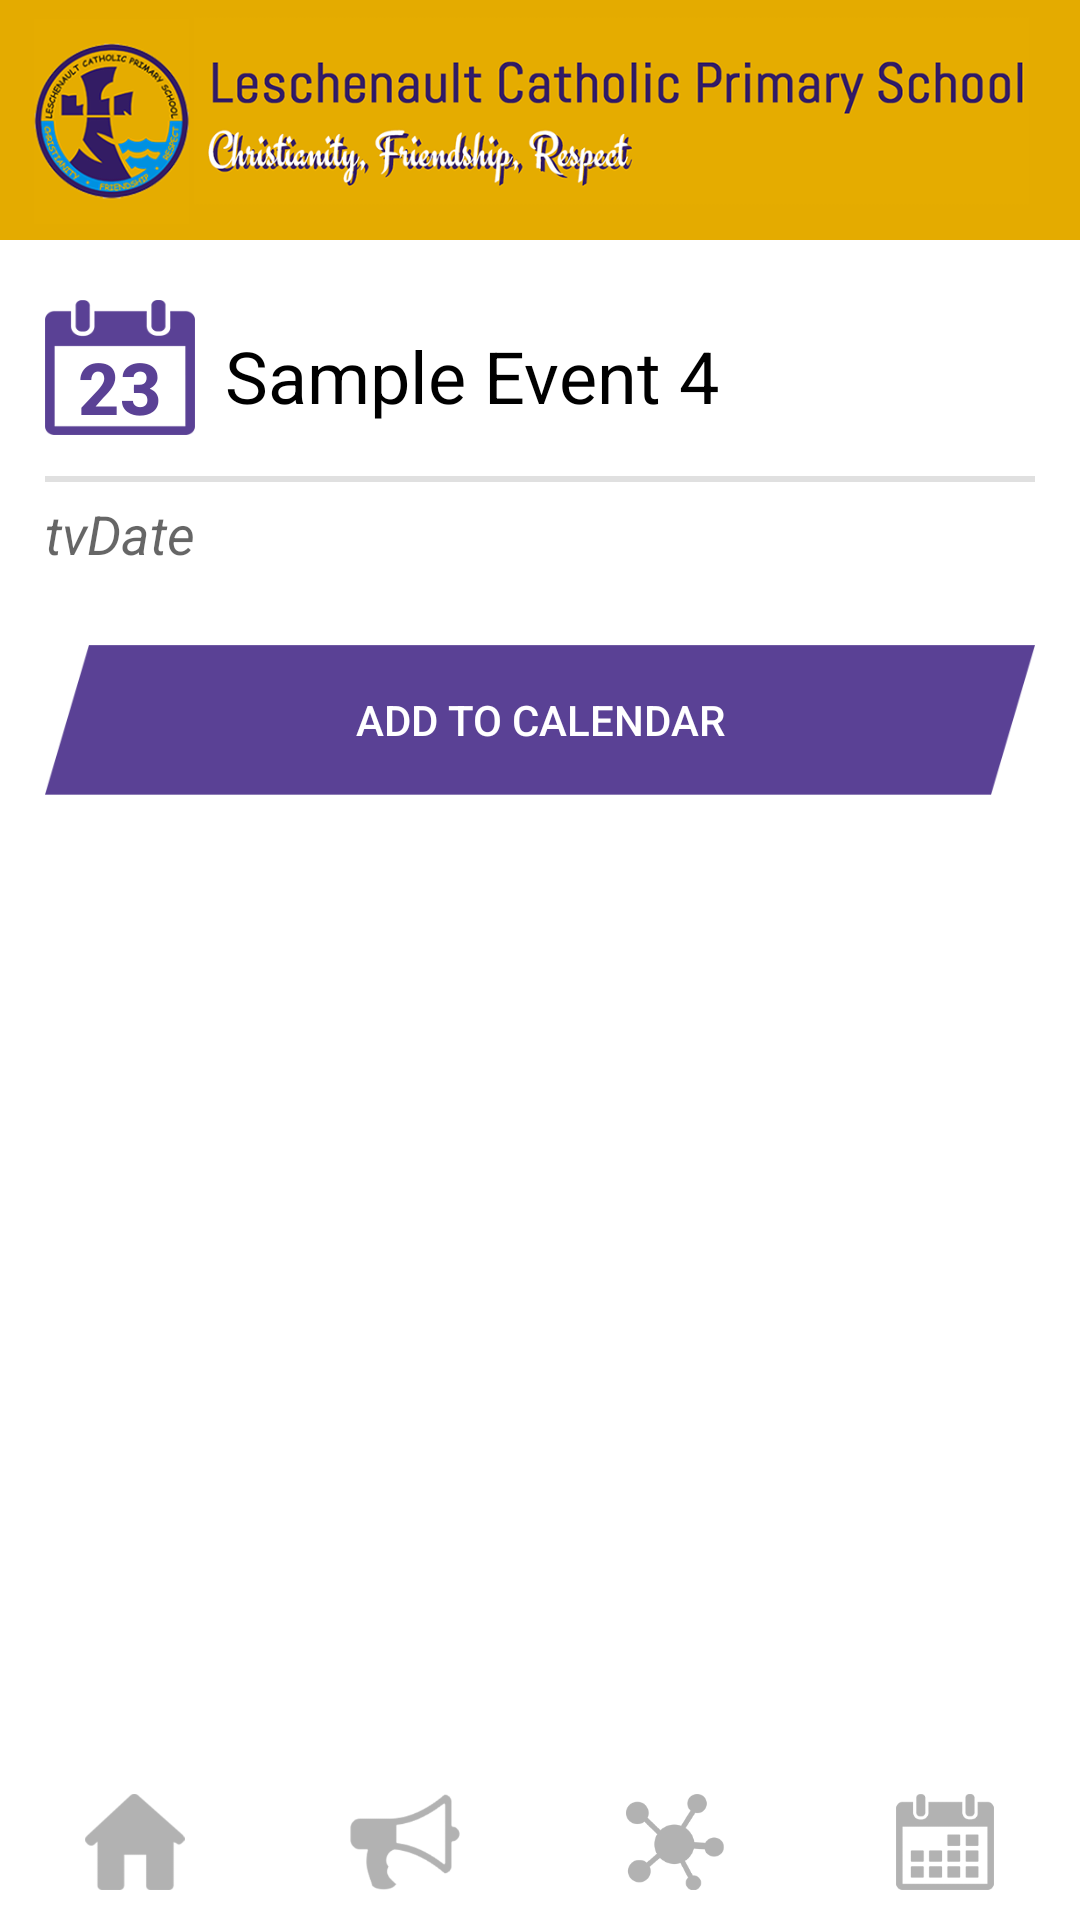

Screen size 1080 x 1920. Icon name, then its box in pixels as {"left": x1, "top": y1, "right": x2, "bottom": y2}:
alerts: {"left": 350, "top": 1795, "right": 460, "bottom": 1889}
home: {"left": 85, "top": 1794, "right": 185, "bottom": 1890}
